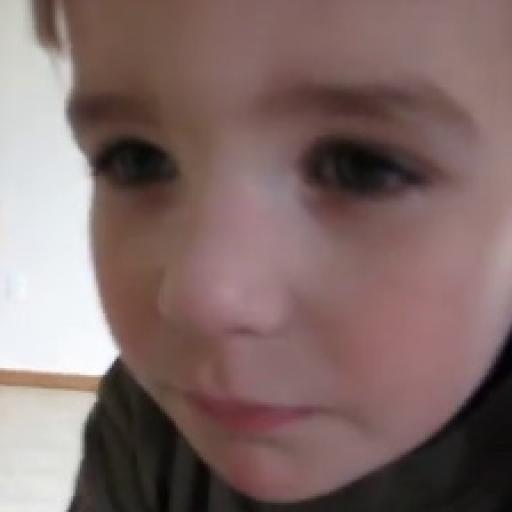Autism: (57, 7, 512, 512)
